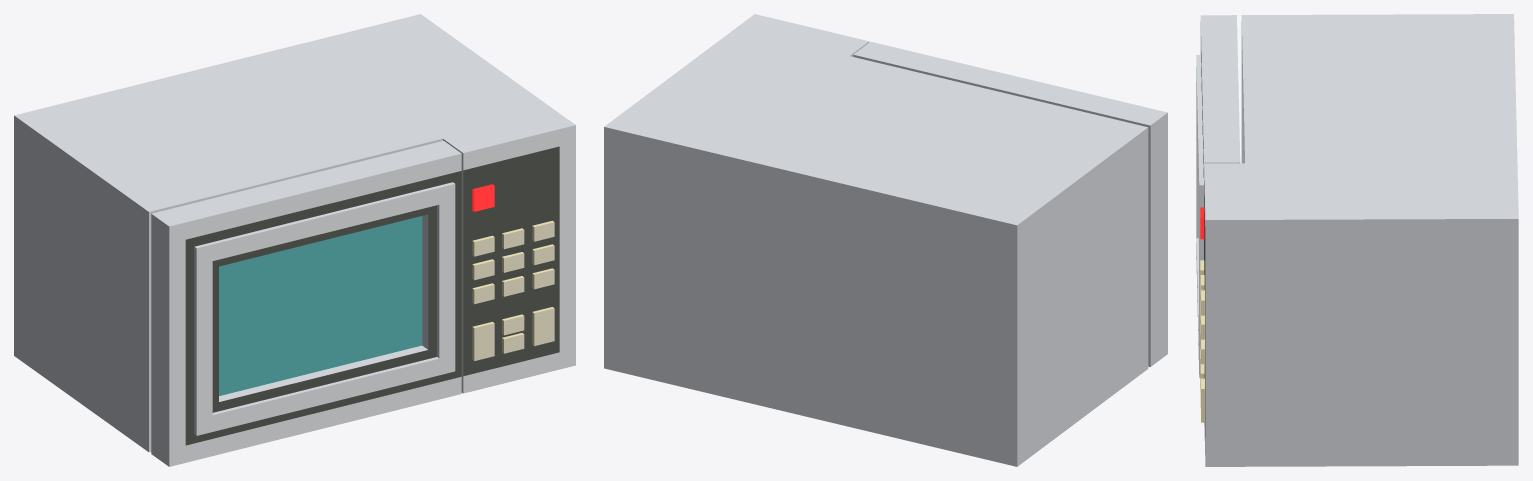
The model's file is Microwave_Closed.glb.
3 views of the same model, side by side, from view 1: azimuth 30°, elevation 25°; view 2: azimuth 150°, elevation 25°; view 3: azimuth 270°, elevation 25° (orthographic). The views are drawn at different scales.
Visible parts, largest first — view 1: Microwave_Closed; view 2: Microwave_Closed; view 3: Microwave_Closed.
Part boxes in pixels (box(x1,y1,x2,y2)): Microwave_Closed: box(14, 14, 575, 466); Microwave_Closed: box(604, 14, 1167, 466); Microwave_Closed: box(1196, 14, 1518, 466).
Size of what is drawn, in the model's own units: 0.8073 by 0.4508 by 0.5338.
Materials: 1 (1 with a texture image).
